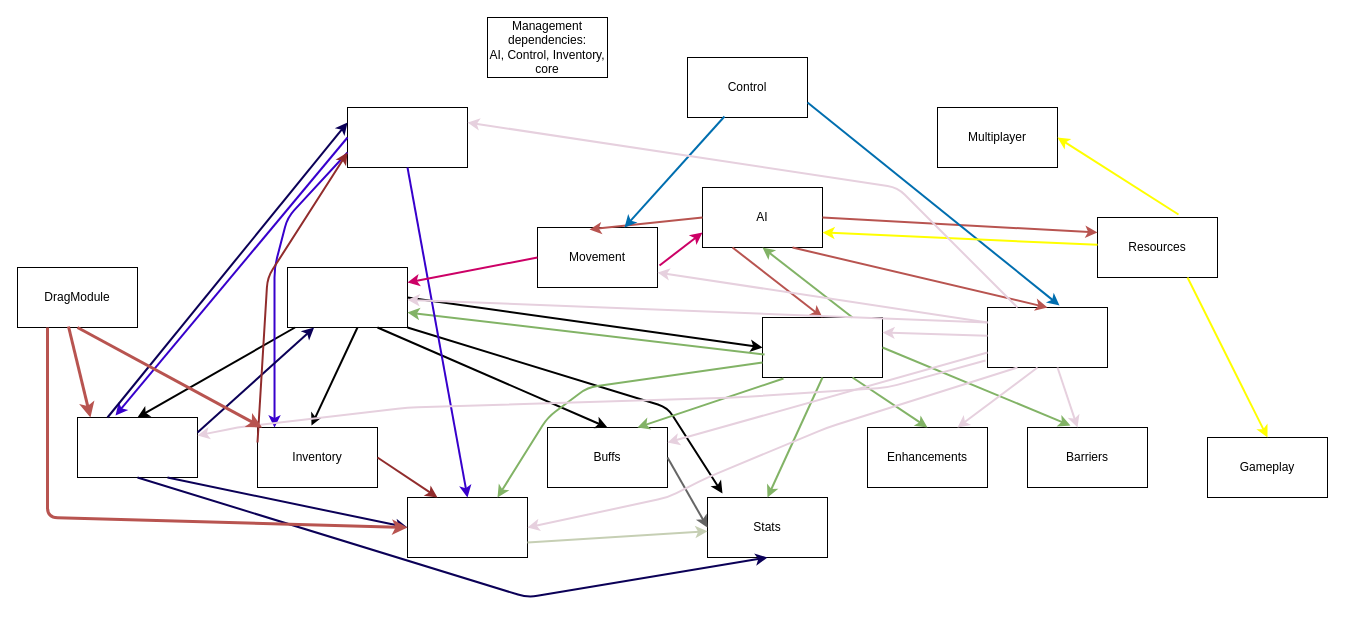
Some shapes in this 1345 by 624 pixel diagram are drawn without their labels. The box of each missing label's shape, as (x1, y1, x2, y2) in pixels:
Class: (286, 266, 408, 328)
Combat: (762, 316, 882, 378)
Core: (346, 106, 468, 168)
Equipment: (76, 416, 198, 478)
Item: (406, 496, 528, 558)
Skill: (986, 306, 1108, 368)
